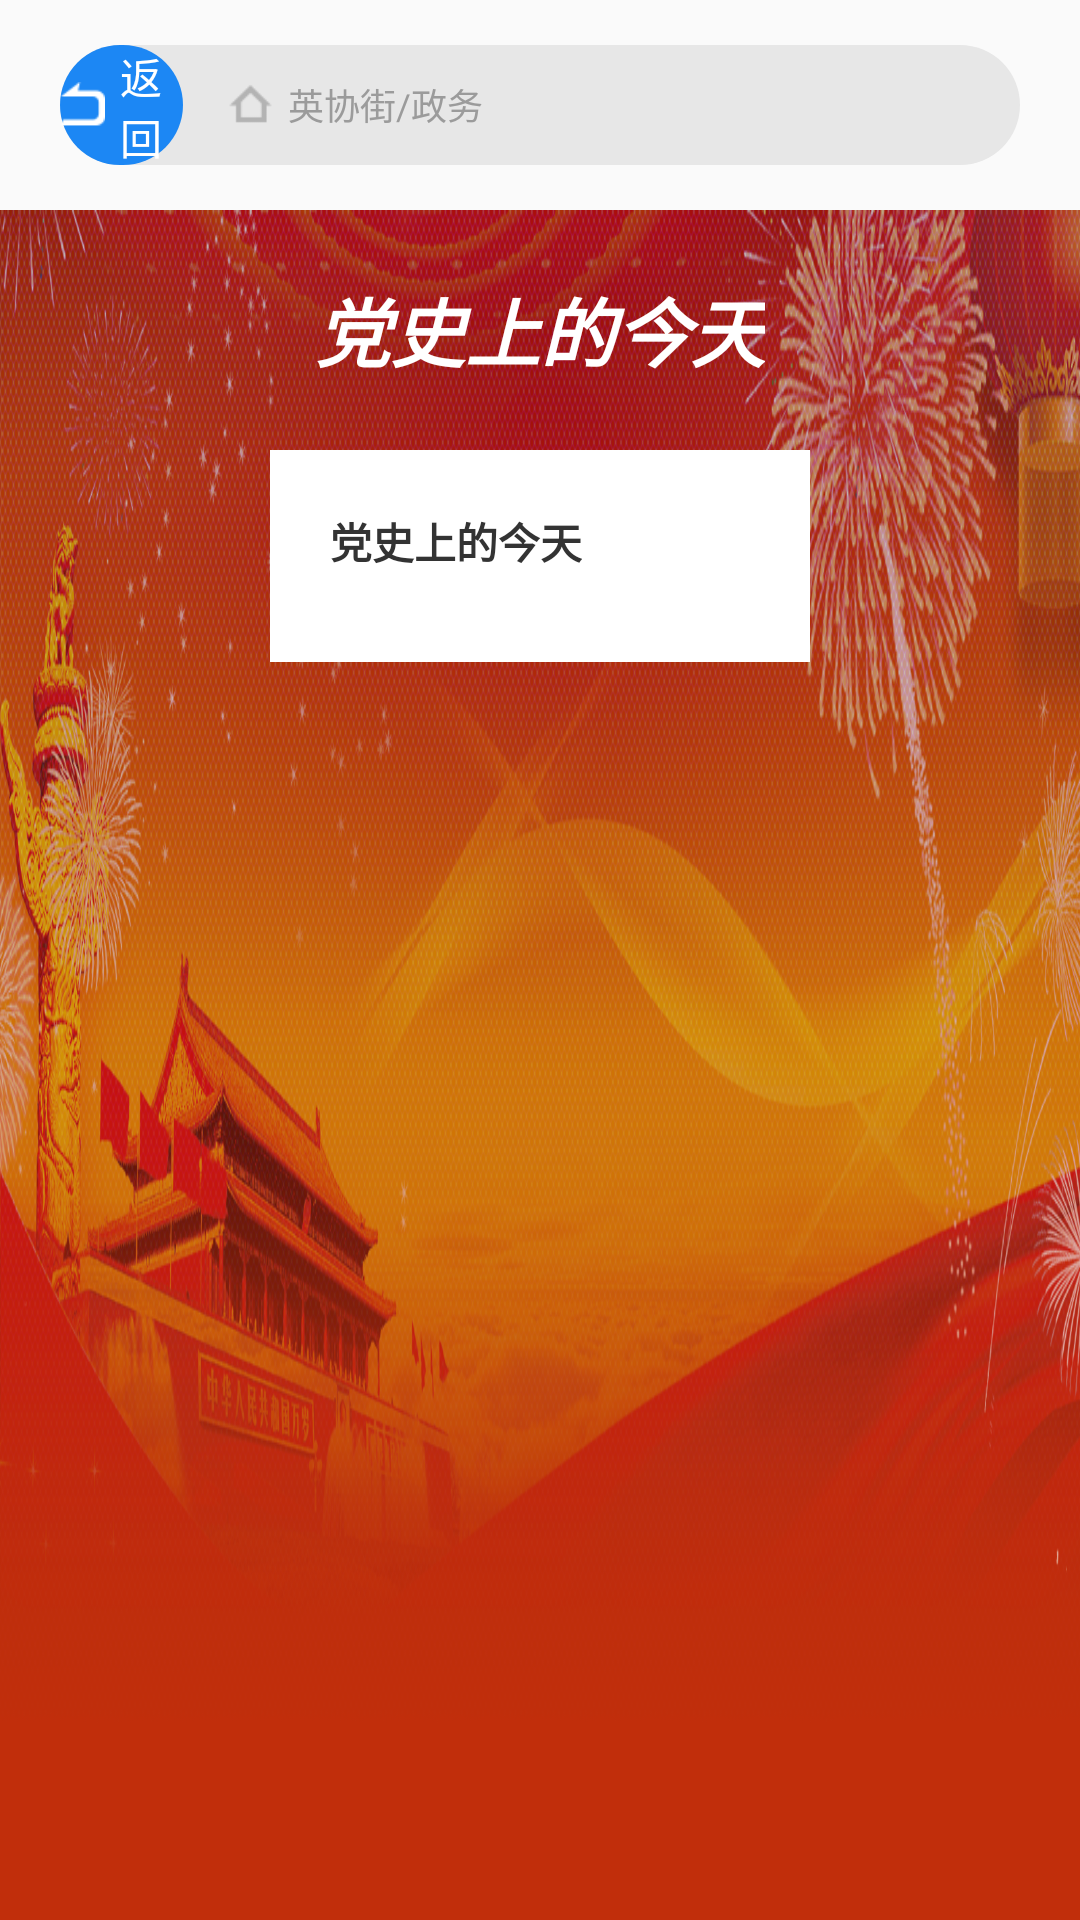

Locate icon controls on the screen. Image size 1080 x 1920, boxes as (x1, y1, x2, y2).
crumb home: (231, 86, 270, 122)
